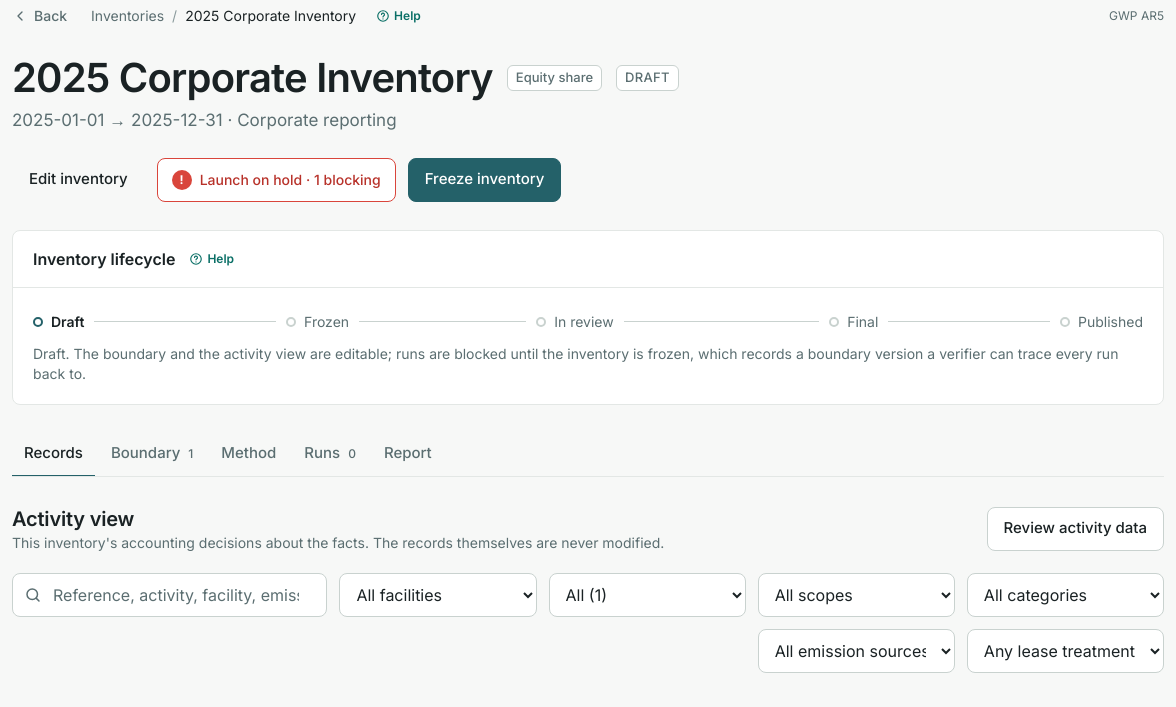
Test: review activity data reports how many records were pulled in
Step 1. Click the button "Review activity data" → click(1075, 528), box [987,506,1164,550]
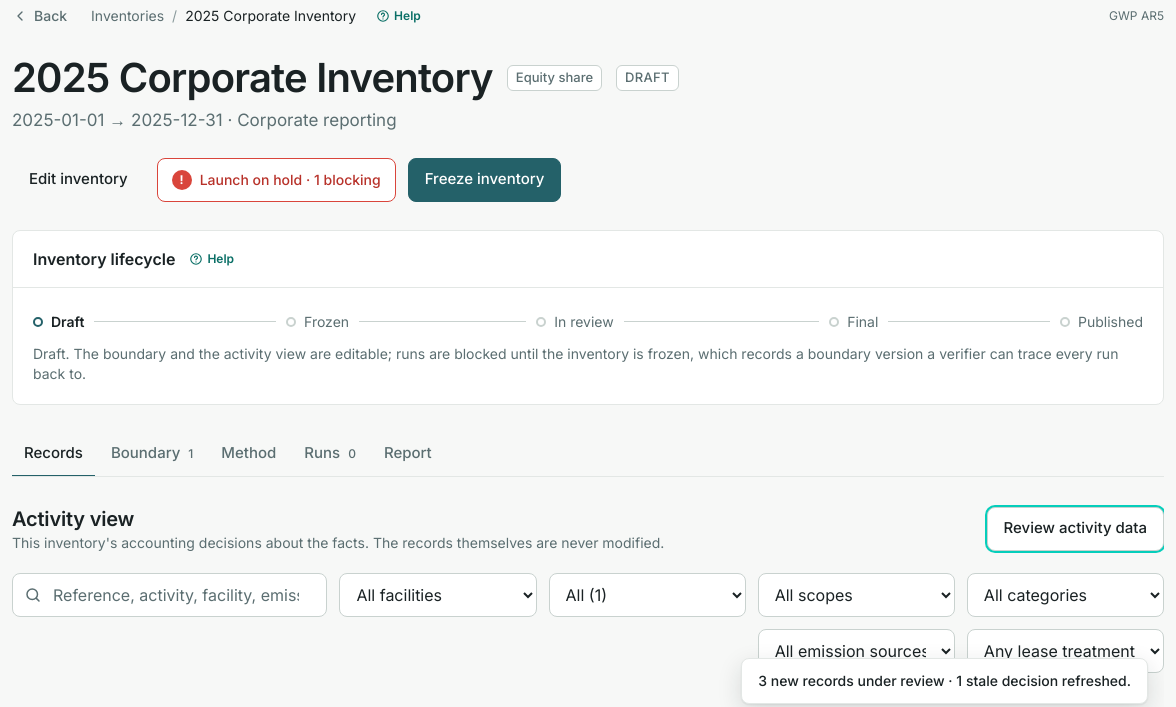
Result: the text "3 new records under review · 1 stale decision refreshed." is shown at [741,658,1148,704]
